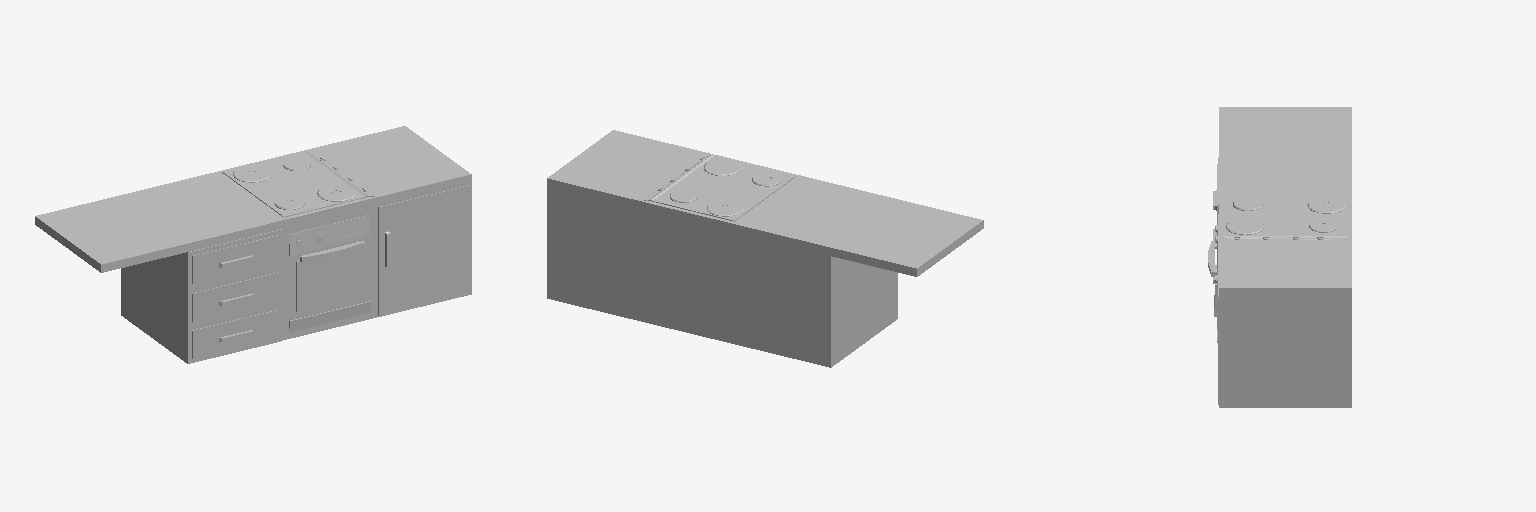
Rendered from fkc.obj.
3 views of the same model, side by side, from view 1: azimuth 30°, elevation 25°; view 2: azimuth 150°, elevation 25°; view 3: azimuth 270°, elevation 25° (orthographic).
Visible parts, largest first — view 1: Box001; view 2: Box001; view 3: Box001.
Boxes of the visible parts, box(x1,y1,x2,y2) form: Box001: box(35, 126, 471, 363); Box001: box(547, 130, 983, 367); Box001: box(1208, 107, 1351, 407).
Size of the model in its own units: 87.27 by 27.69 by 29.34.